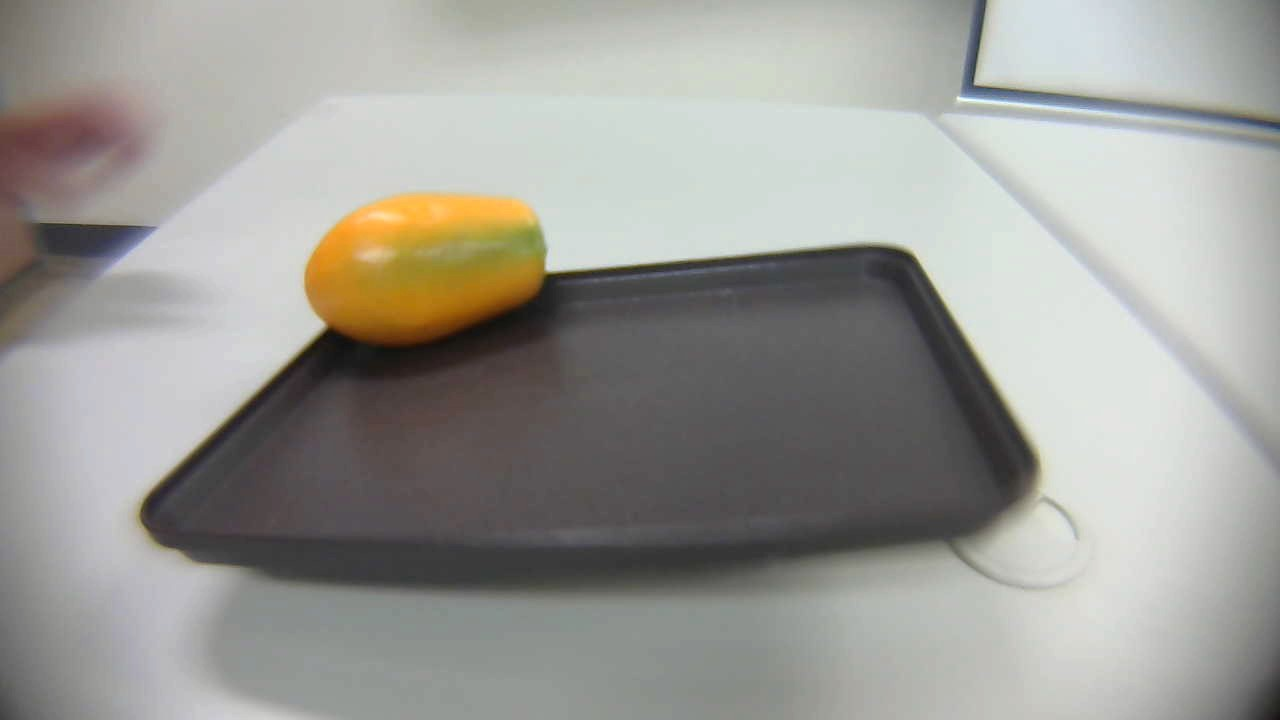papya: (296, 187, 560, 356)
